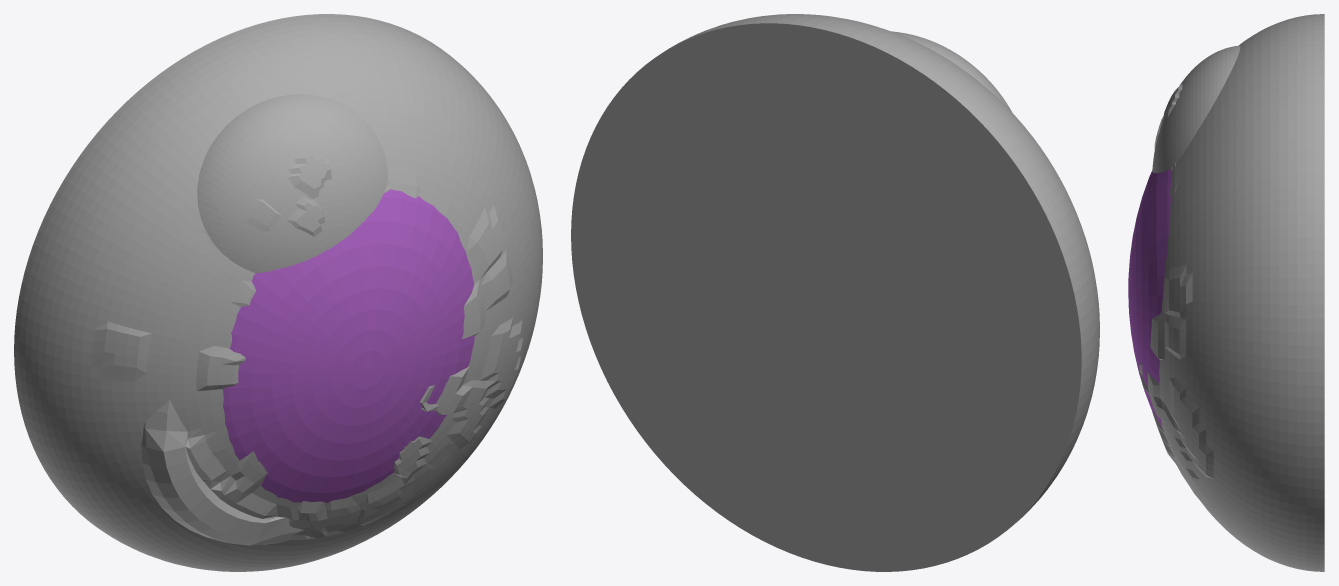
The model's file is G07_A2_ALIGNED_GT.glb.
The picture shows the model from 3 angles, left to right: view 1: azimuth 30°, elevation 25°; view 2: azimuth 150°, elevation 25°; view 3: azimuth 270°, elevation 25°; orthographic projection. The views are drawn at different scales.
Visible parts, largest first — view 1: Independent_GT, A2; view 2: Independent_GT; view 3: Independent_GT, A2.
Part boxes in pixels (x1,y1,x2,y2): Independent_GT: [14, 14, 542, 571]; A2: [222, 189, 474, 502]; Independent_GT: [571, 14, 1099, 571]; Independent_GT: [1139, 14, 1324, 571]; A2: [1128, 169, 1171, 426].
Size of the model in its own units: 0.014 by 0.014 by 0.00492.
